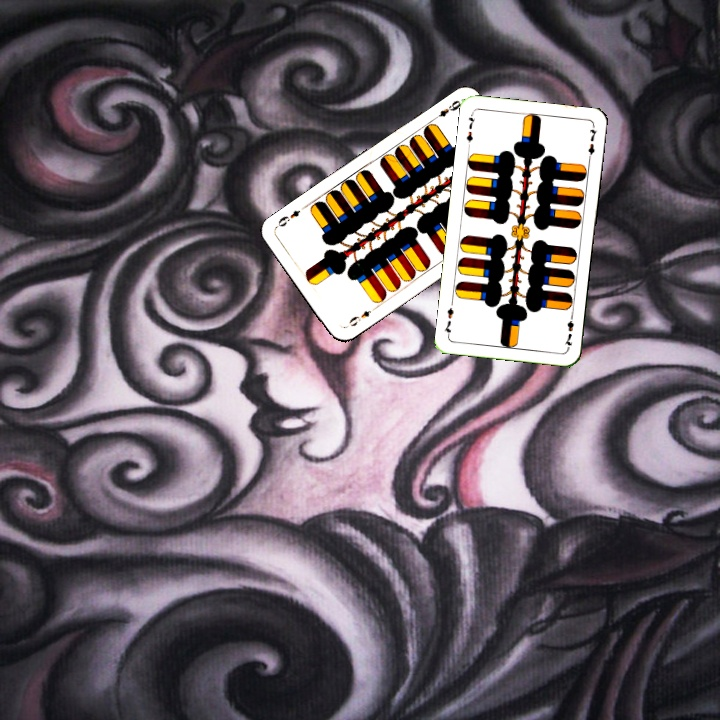E7: (560, 310, 577, 350), (463, 109, 478, 145)
E9: (428, 96, 463, 124), (342, 303, 378, 330)
